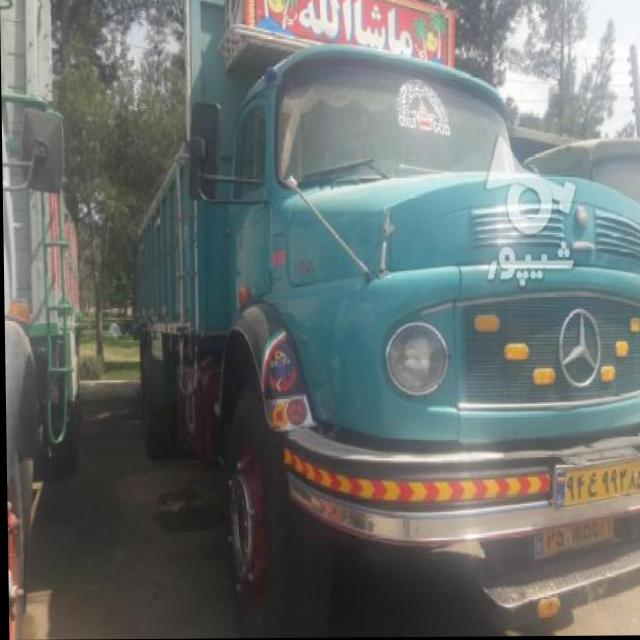licence: (529, 513, 618, 558), (552, 461, 640, 506)
